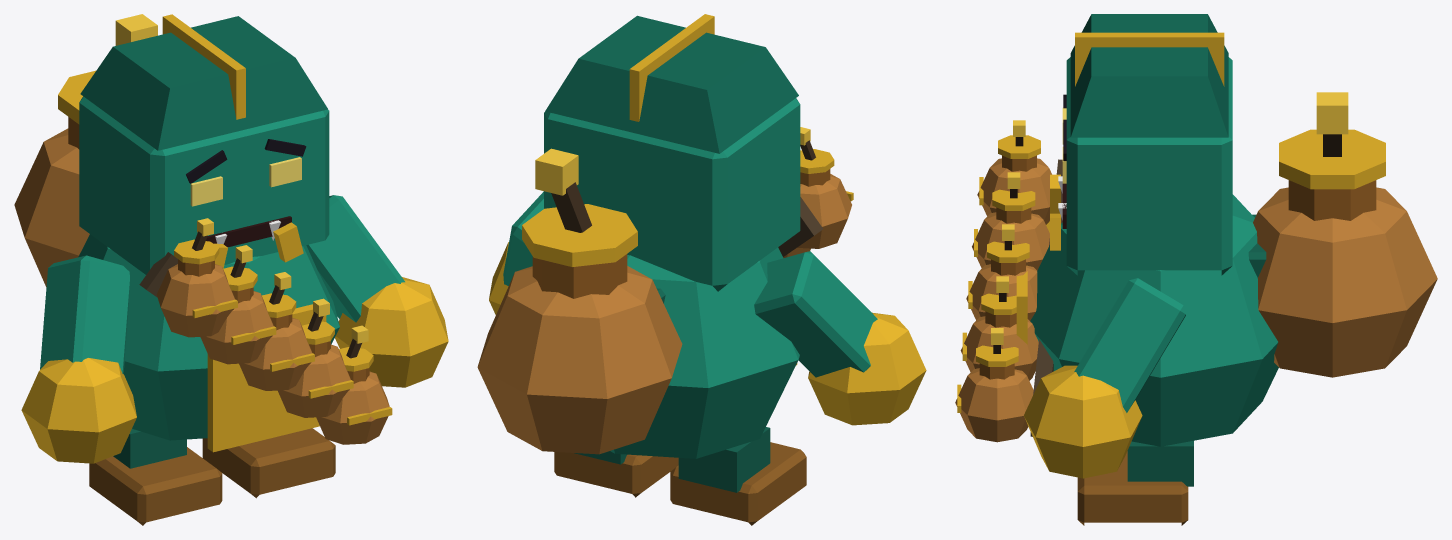
File: r5_mini_scarab_bomber.glb
3 renders of one model, left to right at view 1: azimuth 30°, elevation 25°; view 2: azimuth 150°, elevation 25°; view 3: azimuth 270°, elevation 25°, orthographic. The views are drawn at different scales.
Parts seen in each view (by area): view 1: r5_mini_scarab_bomber_mesh; view 2: r5_mini_scarab_bomber_mesh; view 3: r5_mini_scarab_bomber_mesh.
Boxes of the visible parts, left/top/right/bottom form: r5_mini_scarab_bomber_mesh: left=14, top=14, right=448, bottom=525; r5_mini_scarab_bomber_mesh: left=477, top=14, right=926, bottom=525; r5_mini_scarab_bomber_mesh: left=955, top=14, right=1437, bottom=525.
Bounding box in the file's own units: 3.54 × 3.6 × 3.54.
Materials: 1 (1 with a texture image).
